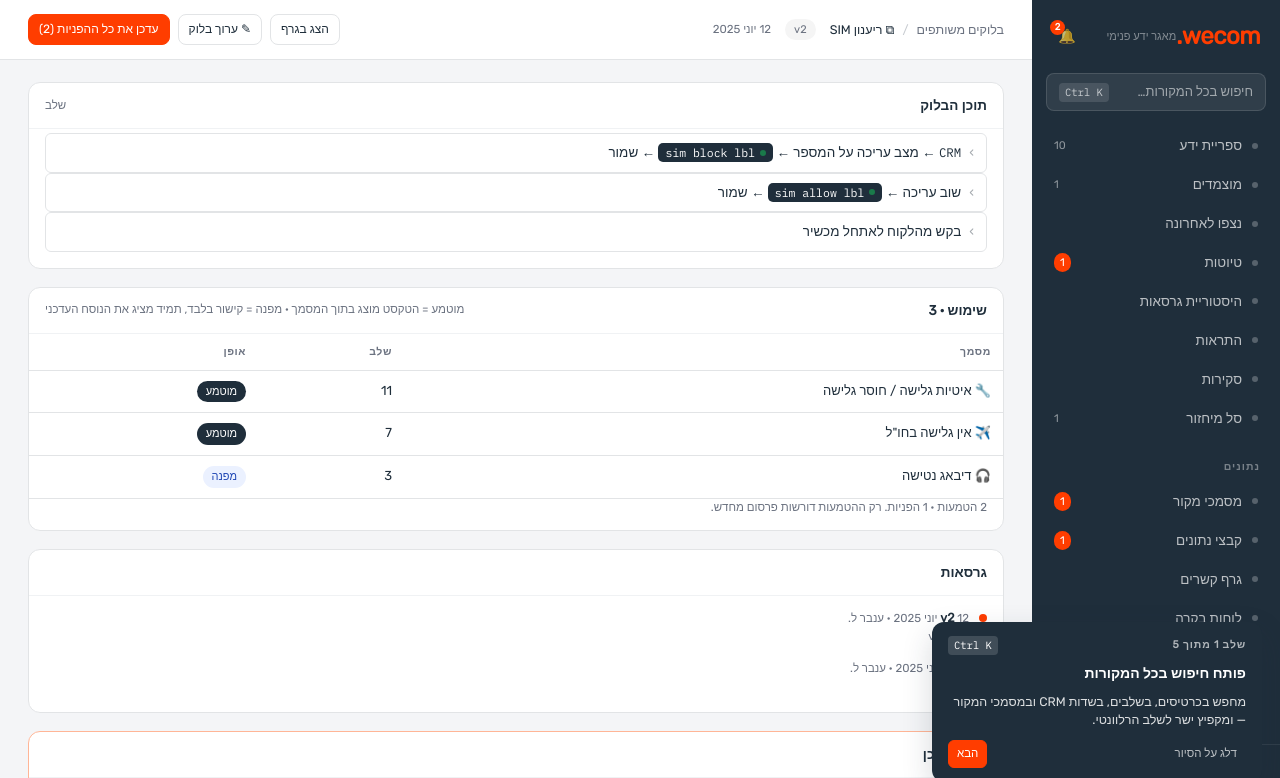
Test: <BlockPage> › "update all references" republishes each embedding document in sequence
Check: the table with test id "block-usage" is shown, box [29,334,1003,499]
Two embeds, one reference — only the embeds need a republish, so the button says 2.
Click the button "עדכן את כל ההפניות (2)".
click(99, 30)  # box [28,14,170,45]
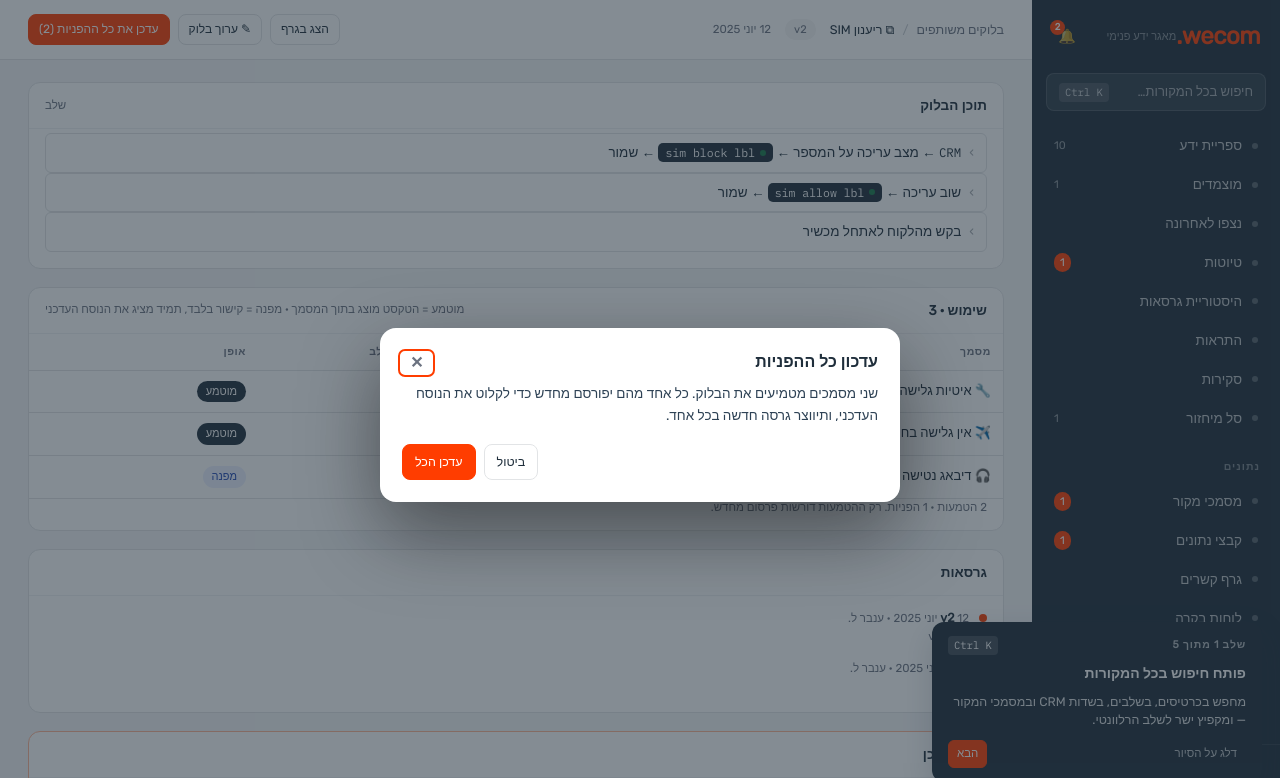
Check: the text "שני מסמכים מטמיעים את הבלוק" is shown, box [416,385,878,423]
Click the button "עדכן הכל".
click(439, 462)  # box [402,444,476,480]
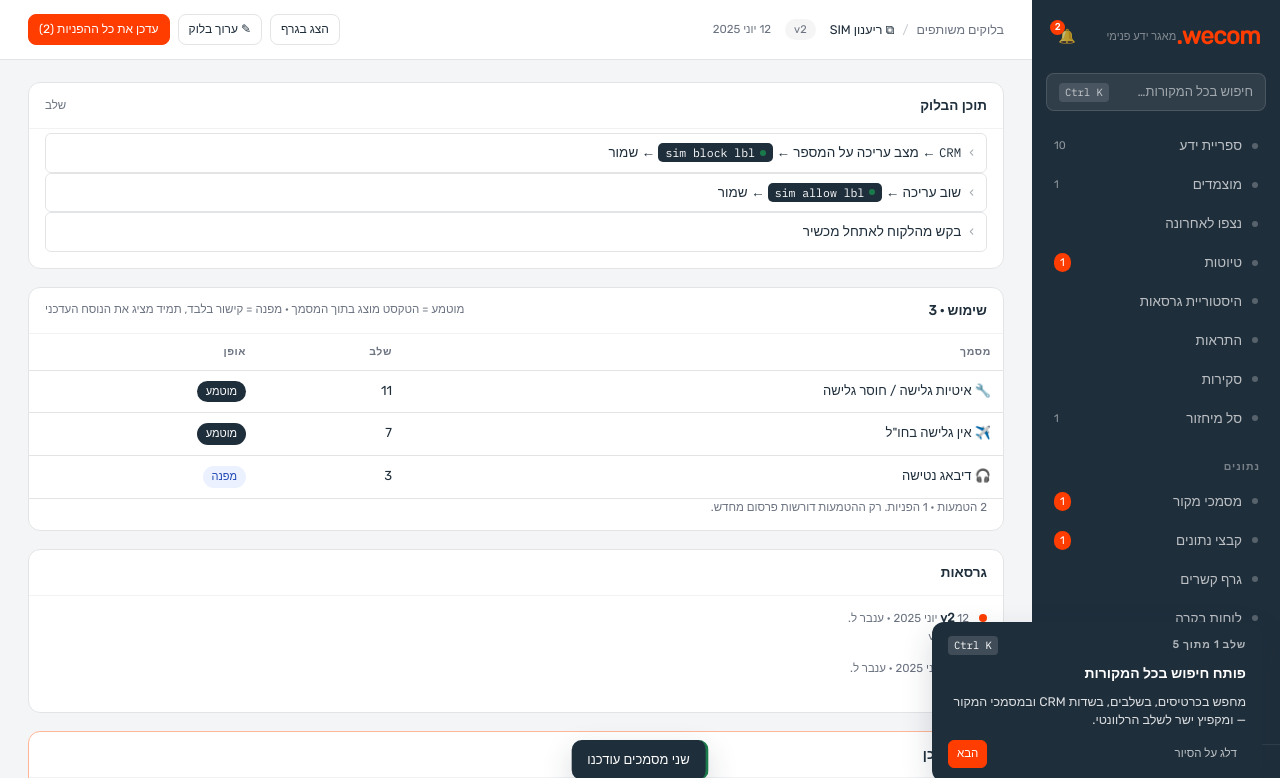
Check: the text "שני מסמכים עודכנו" is shown, box [587,750,690,770]
